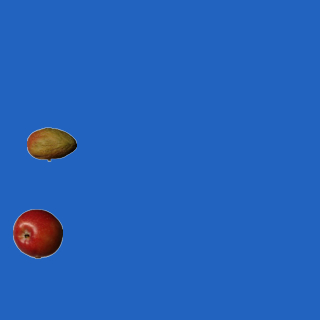Apple Braeburn: (12, 208, 62, 258)
Papaya: (26, 119, 76, 169)
